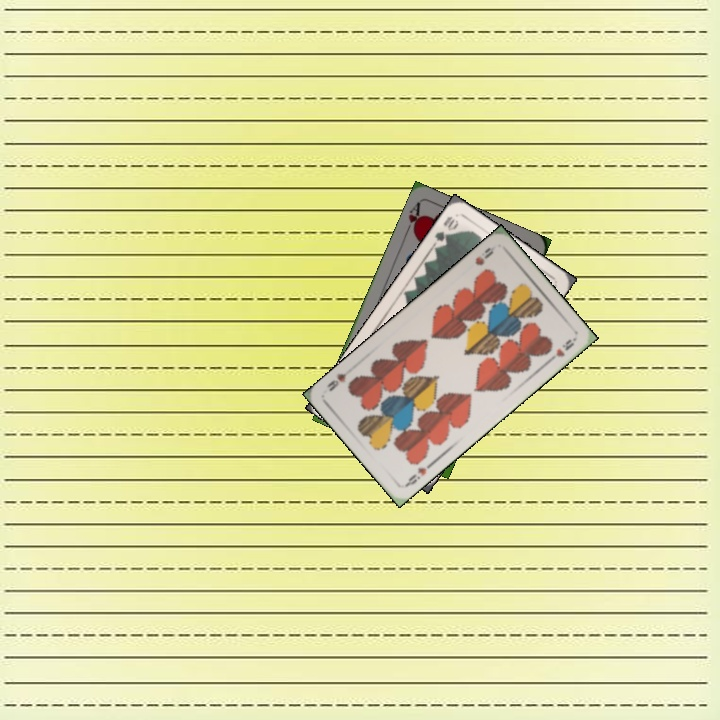G10: (429, 212, 461, 250)
H9: (401, 463, 429, 489), (471, 243, 496, 268)
HA: (401, 198, 425, 238)
